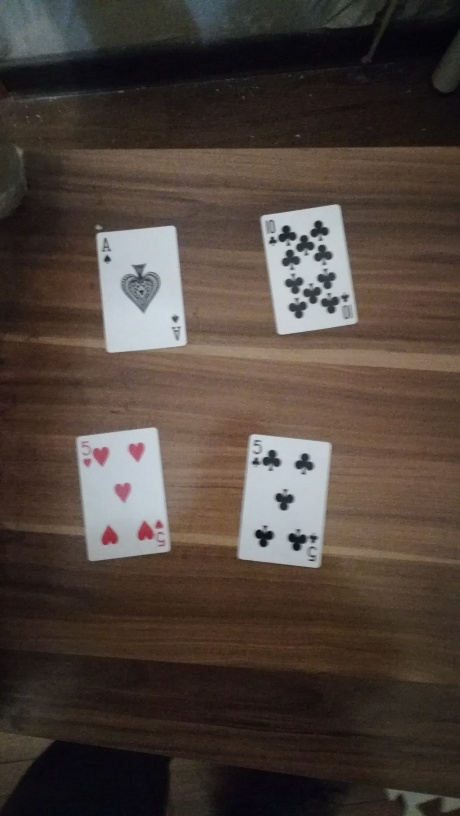ht a: (89, 224, 190, 354)
hx 5: (71, 430, 175, 561)
mh 10: (258, 205, 360, 336)
mh 5: (238, 431, 333, 569)
